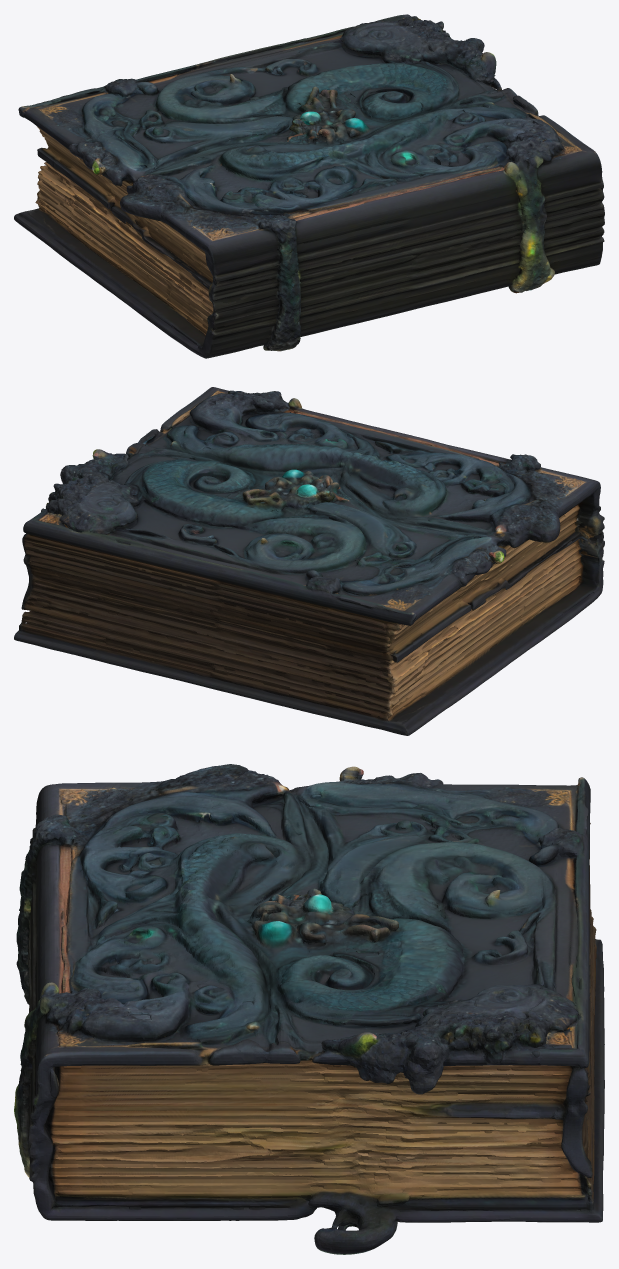
The model's file is A_dark_and_mystical_b_0613154739_texture.fbx.
The picture shows the model from 3 angles, top to bottom: view 1: azimuth 30°, elevation 25°; view 2: azimuth 150°, elevation 25°; view 3: azimuth 270°, elevation 25°; orthographic projection. The views are drawn at different scales.
Visible parts, largest first — view 1: temp; view 2: temp; view 3: temp.
Part boxes in pixels (left/top/right/bottom): temp: left=14, top=14, right=604, bottom=358; temp: left=14, top=387, right=604, bottom=735; temp: left=14, top=764, right=604, bottom=1254.
Size of the model in its own units: 200 by 64.13 by 162.
1 material, 1 textured.
